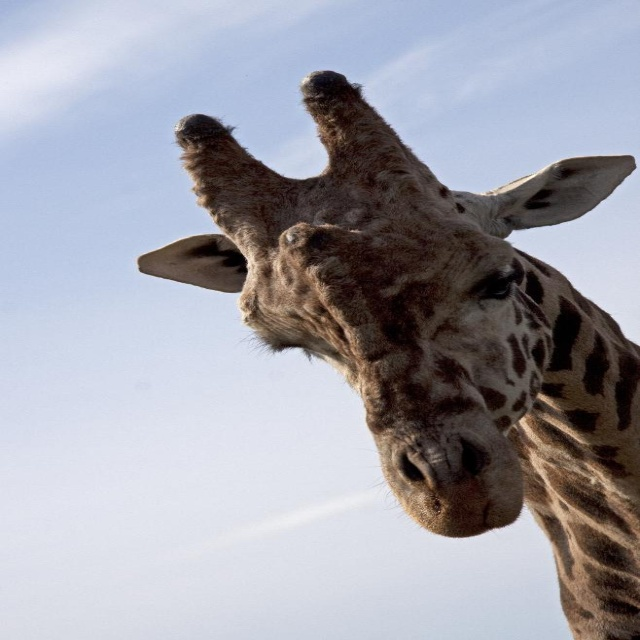Giraffe: (136, 70, 639, 640)
